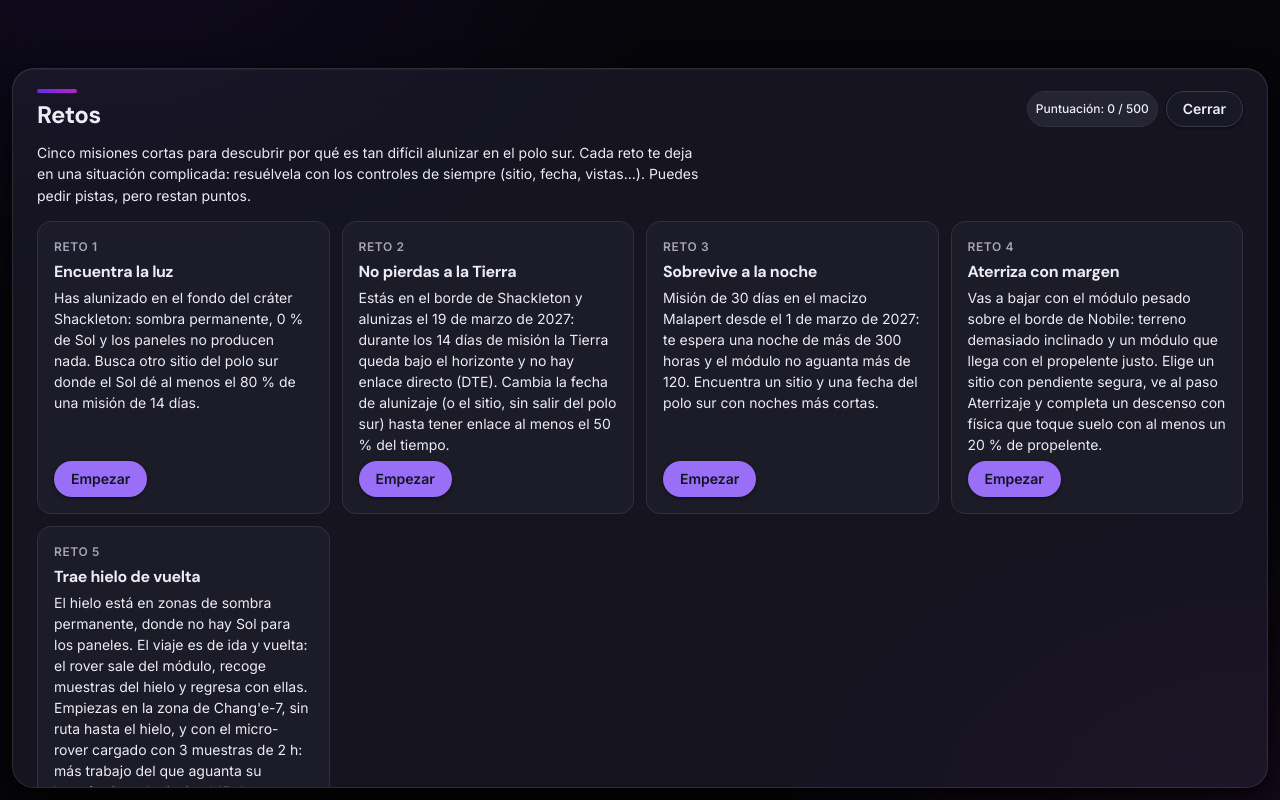
playing a challenge › "all challenges" leaves the one in progress
Click the button "Empezar" below "Reto 2" at (405, 479), box left=358, top=461, right=452, bottom=497
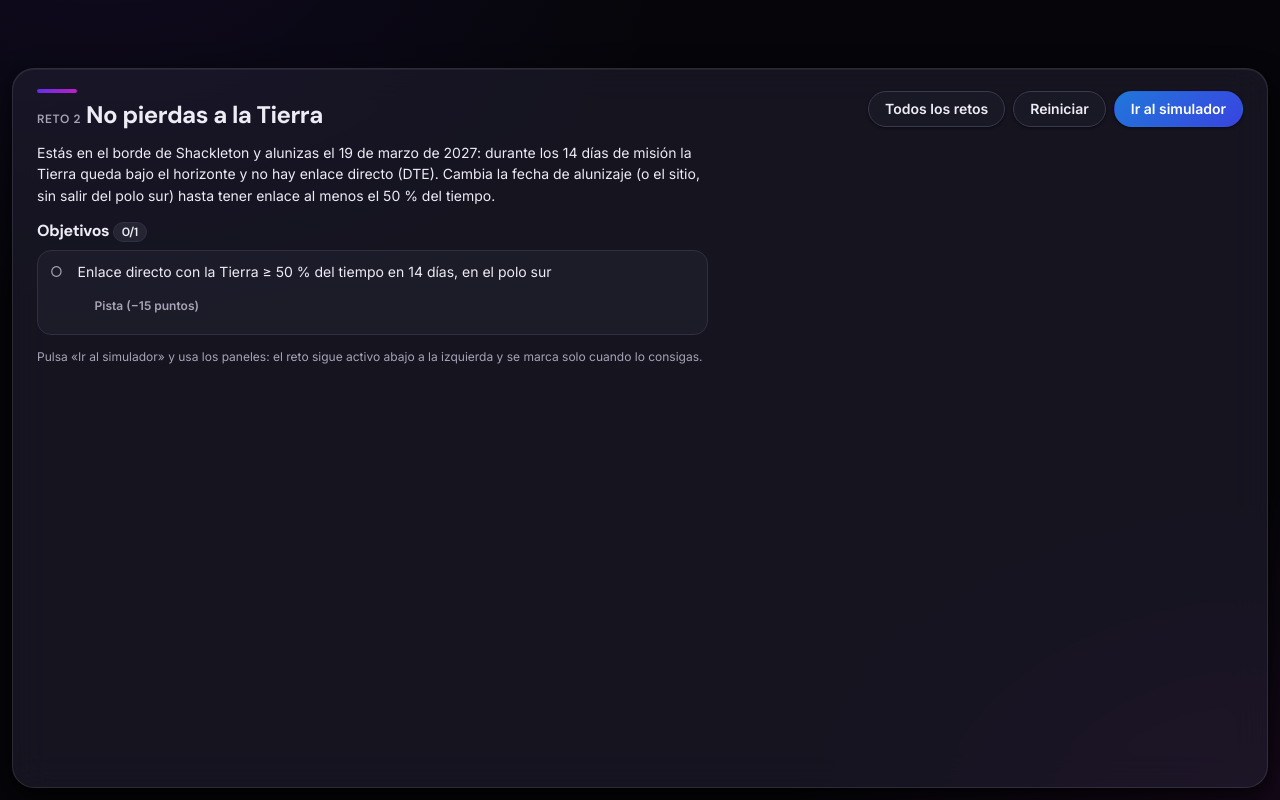
Click the button "Todos los retos" at (937, 109), box left=868, top=91, right=1005, bottom=127
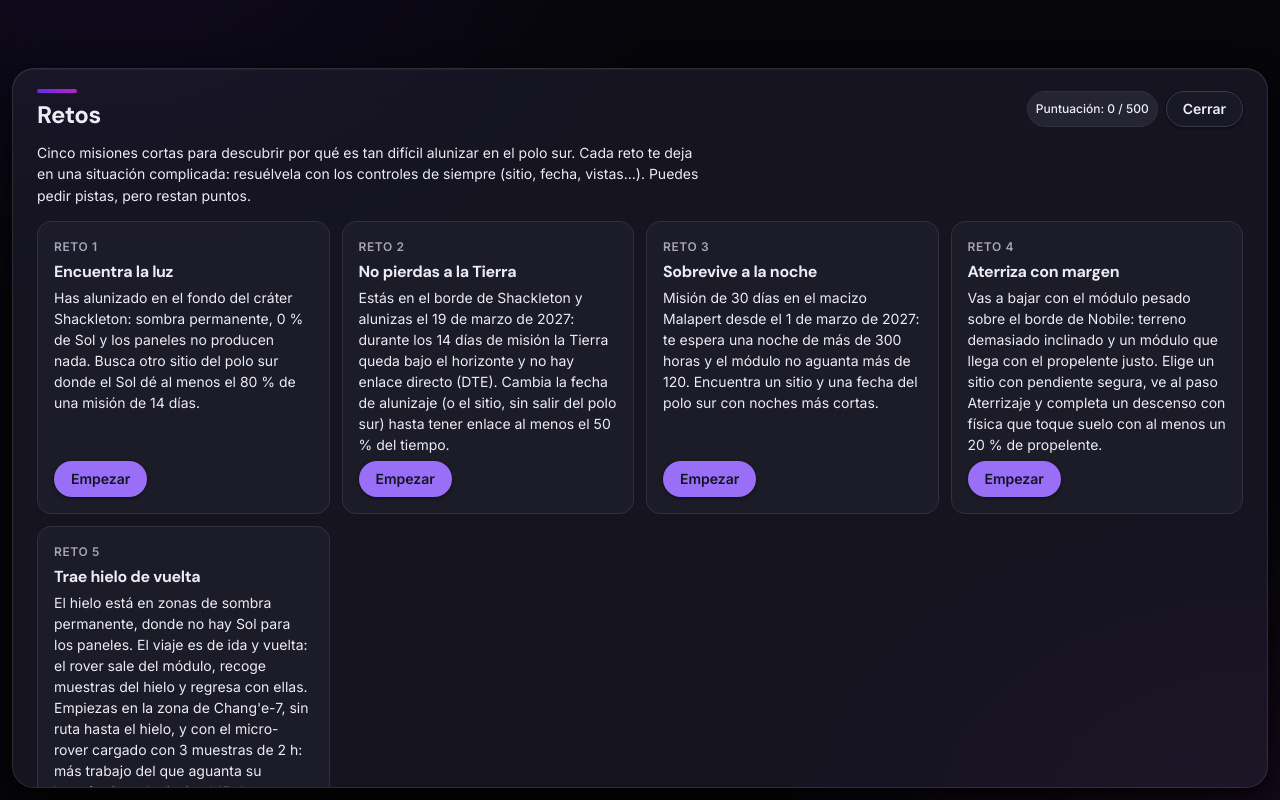
Now the number of list items is 5, box left=37, top=221, right=330, bottom=514; left=342, top=221, right=634, bottom=514; left=646, top=221, right=938, bottom=514; left=950, top=221, right=1243, bottom=514; left=37, top=526, right=330, bottom=788
